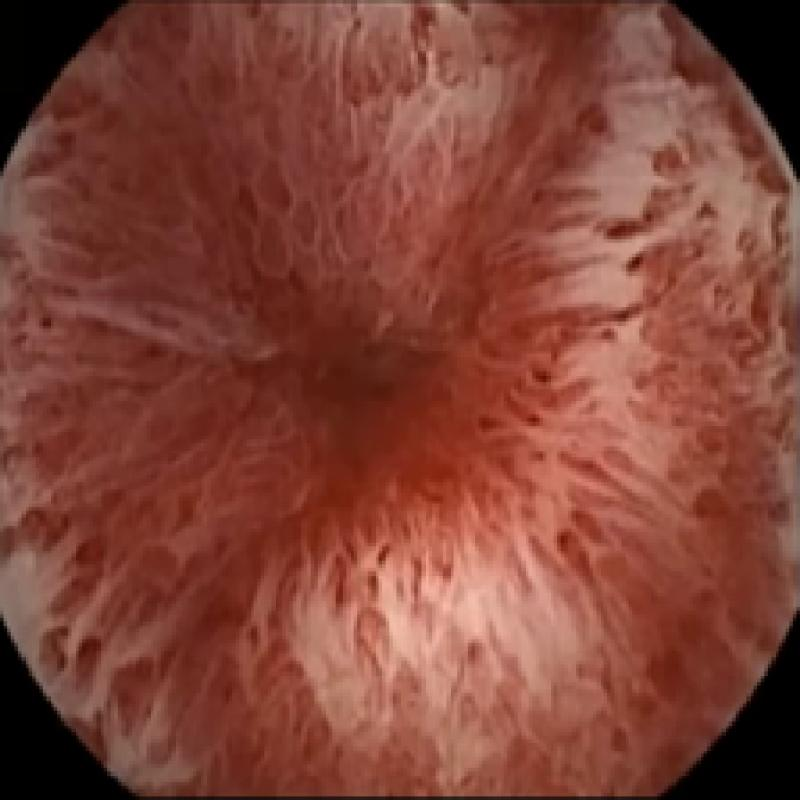bleeding: (7, 0, 790, 800)
